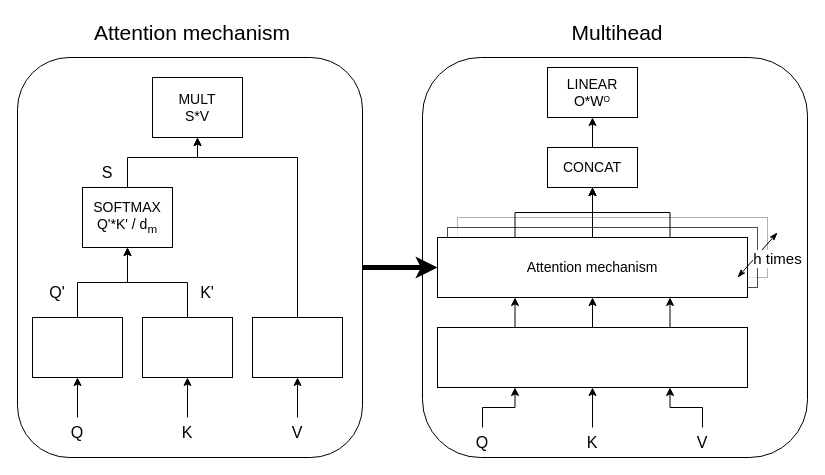
Image size: 825x475. Some labels were removed from this diagram. Each missing label, with the box of its shape:
LINEAR K*W K: (142, 316, 232, 378)
LINEAR Q*W Q: (32, 316, 122, 378)
LINEAR V*W V: (252, 316, 342, 378)
SUBDIVISION h submatrices: (436, 326, 748, 388)
